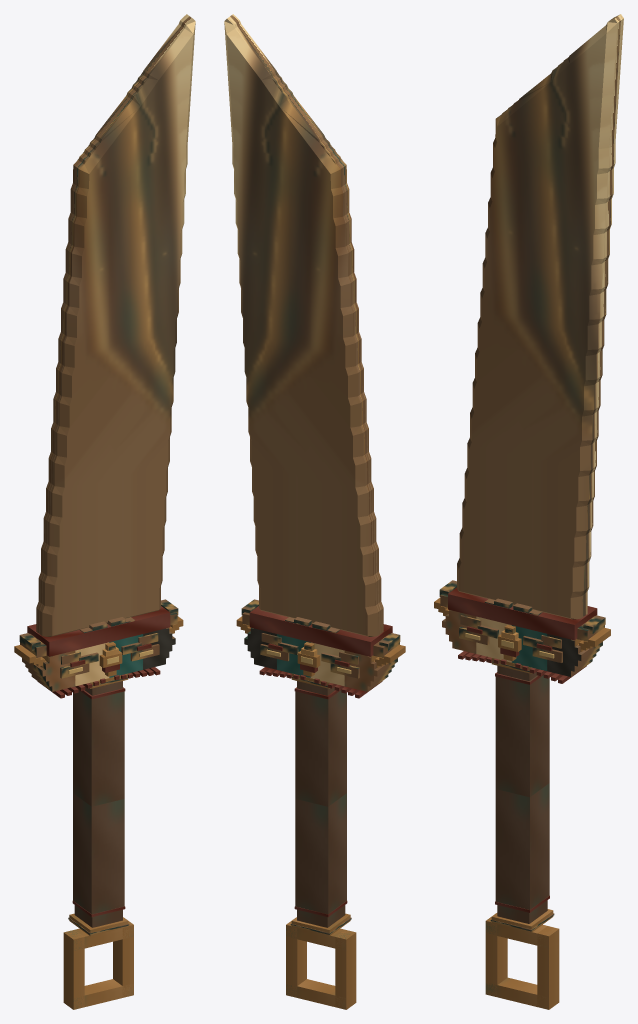
File: bronze_dao.obj
The picture shows the model from 3 angles, left to right: view 1: azimuth 30°, elevation 25°; view 2: azimuth 150°, elevation 25°; view 3: azimuth 330°, elevation 25°; orthographic projection. The views are drawn at different scales.
Visible parts, largest first — view 1: bronze_dao; view 2: bronze_dao; view 3: bronze_dao.
Part boxes in pixels (x1,y1,x2,y2): bronze_dao: [14, 14, 195, 1009]; bronze_dao: [224, 14, 405, 1009]; bronze_dao: [434, 14, 623, 1009].
Size of the model in its own units: 0.4757 by 2.56 by 0.1385.
